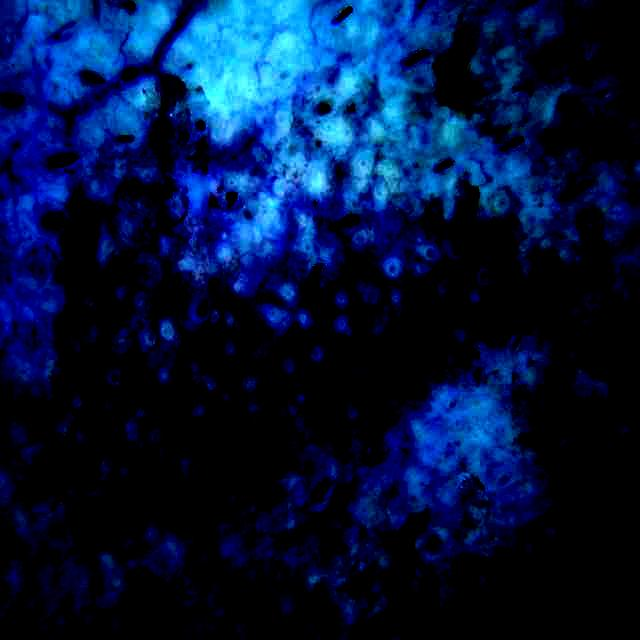AKIEC: (61, 60, 610, 544)
